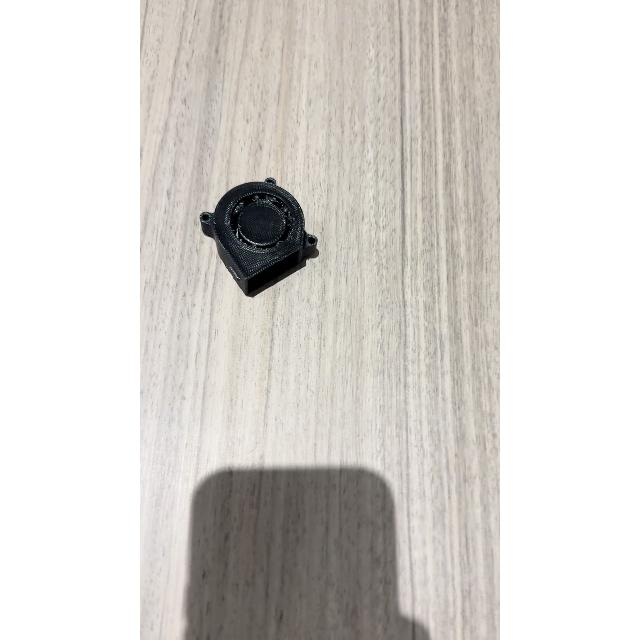Pieza_3: (196, 170, 330, 300)
